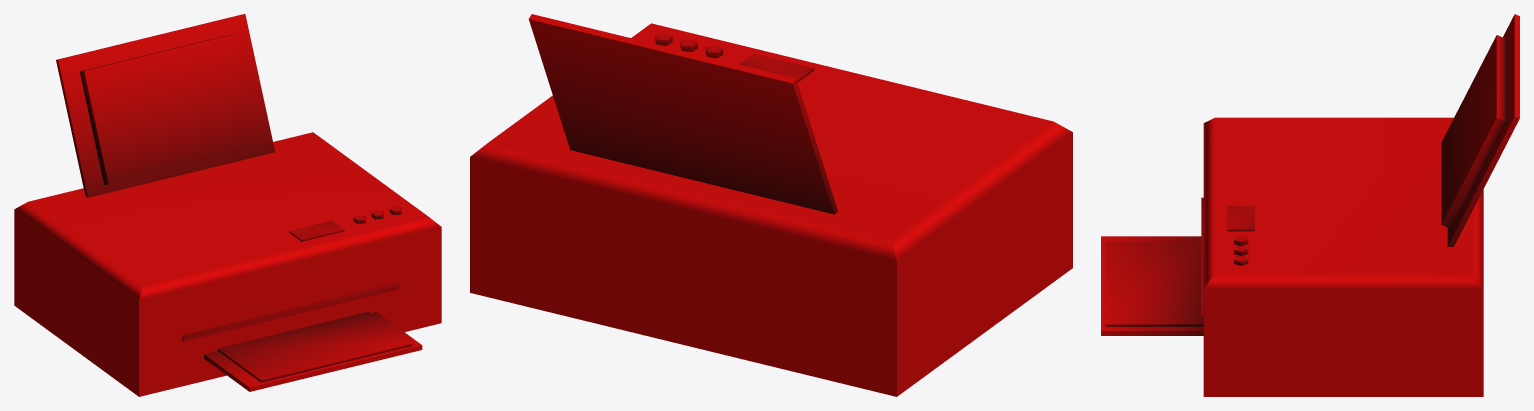
The model's file is CI_Office_Printer.glb.
The picture shows the model from 3 angles, left to right: view 1: azimuth 30°, elevation 25°; view 2: azimuth 150°, elevation 25°; view 3: azimuth 270°, elevation 25°; orthographic projection. The views are drawn at different scales.
Parts seen in each view (by area): view 1: CI_Office_Printer; view 2: CI_Office_Printer; view 3: CI_Office_Printer.
Part boxes in pixels (x1=…): CI_Office_Printer: x1=14, y1=14, x2=441, y2=396; CI_Office_Printer: x1=470, y1=14, x2=1072, y2=396; CI_Office_Printer: x1=1101, y1=14, x2=1519, y2=396.
Bounding box in the file's own units: 0.42 × 0.2944 × 0.4488.
